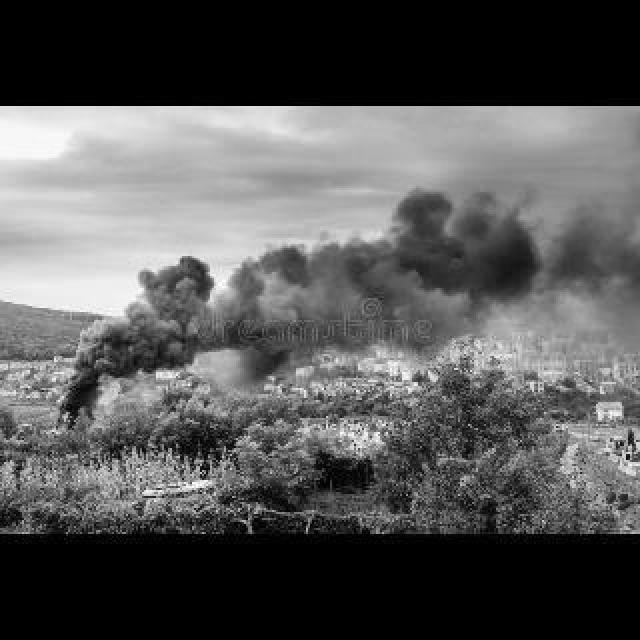Fire: (46, 400, 82, 436)
Smoke: (120, 174, 638, 372), (62, 324, 124, 408)
